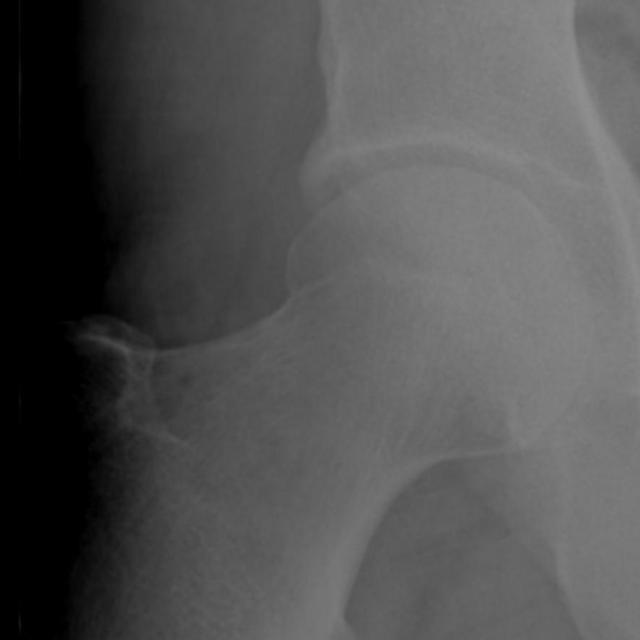Fitted_femural_head: (314, 166, 432, 314)
